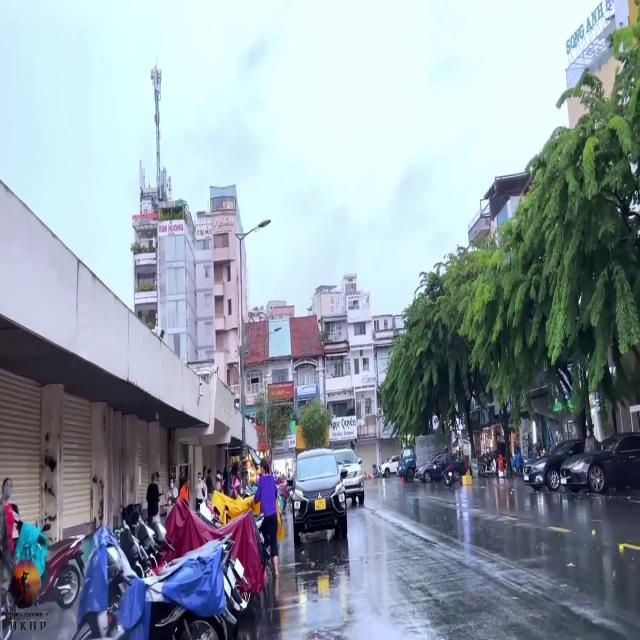bien_vang: (314, 497, 326, 509)
